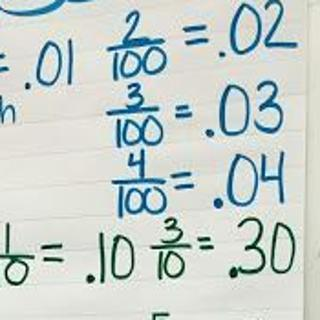.: (202, 126, 218, 144), (84, 270, 97, 287), (226, 265, 239, 282), (211, 197, 225, 210), (214, 50, 228, 61), (22, 80, 31, 93)
0: (222, 152, 260, 210), (225, 2, 263, 57), (217, 80, 252, 139), (266, 220, 298, 277), (32, 36, 63, 89), (110, 227, 137, 286)
1: (62, 31, 78, 92), (95, 228, 109, 288)
2: (260, 1, 300, 54)
3: (250, 74, 286, 135), (235, 215, 267, 277)
4: (256, 147, 290, 205)
